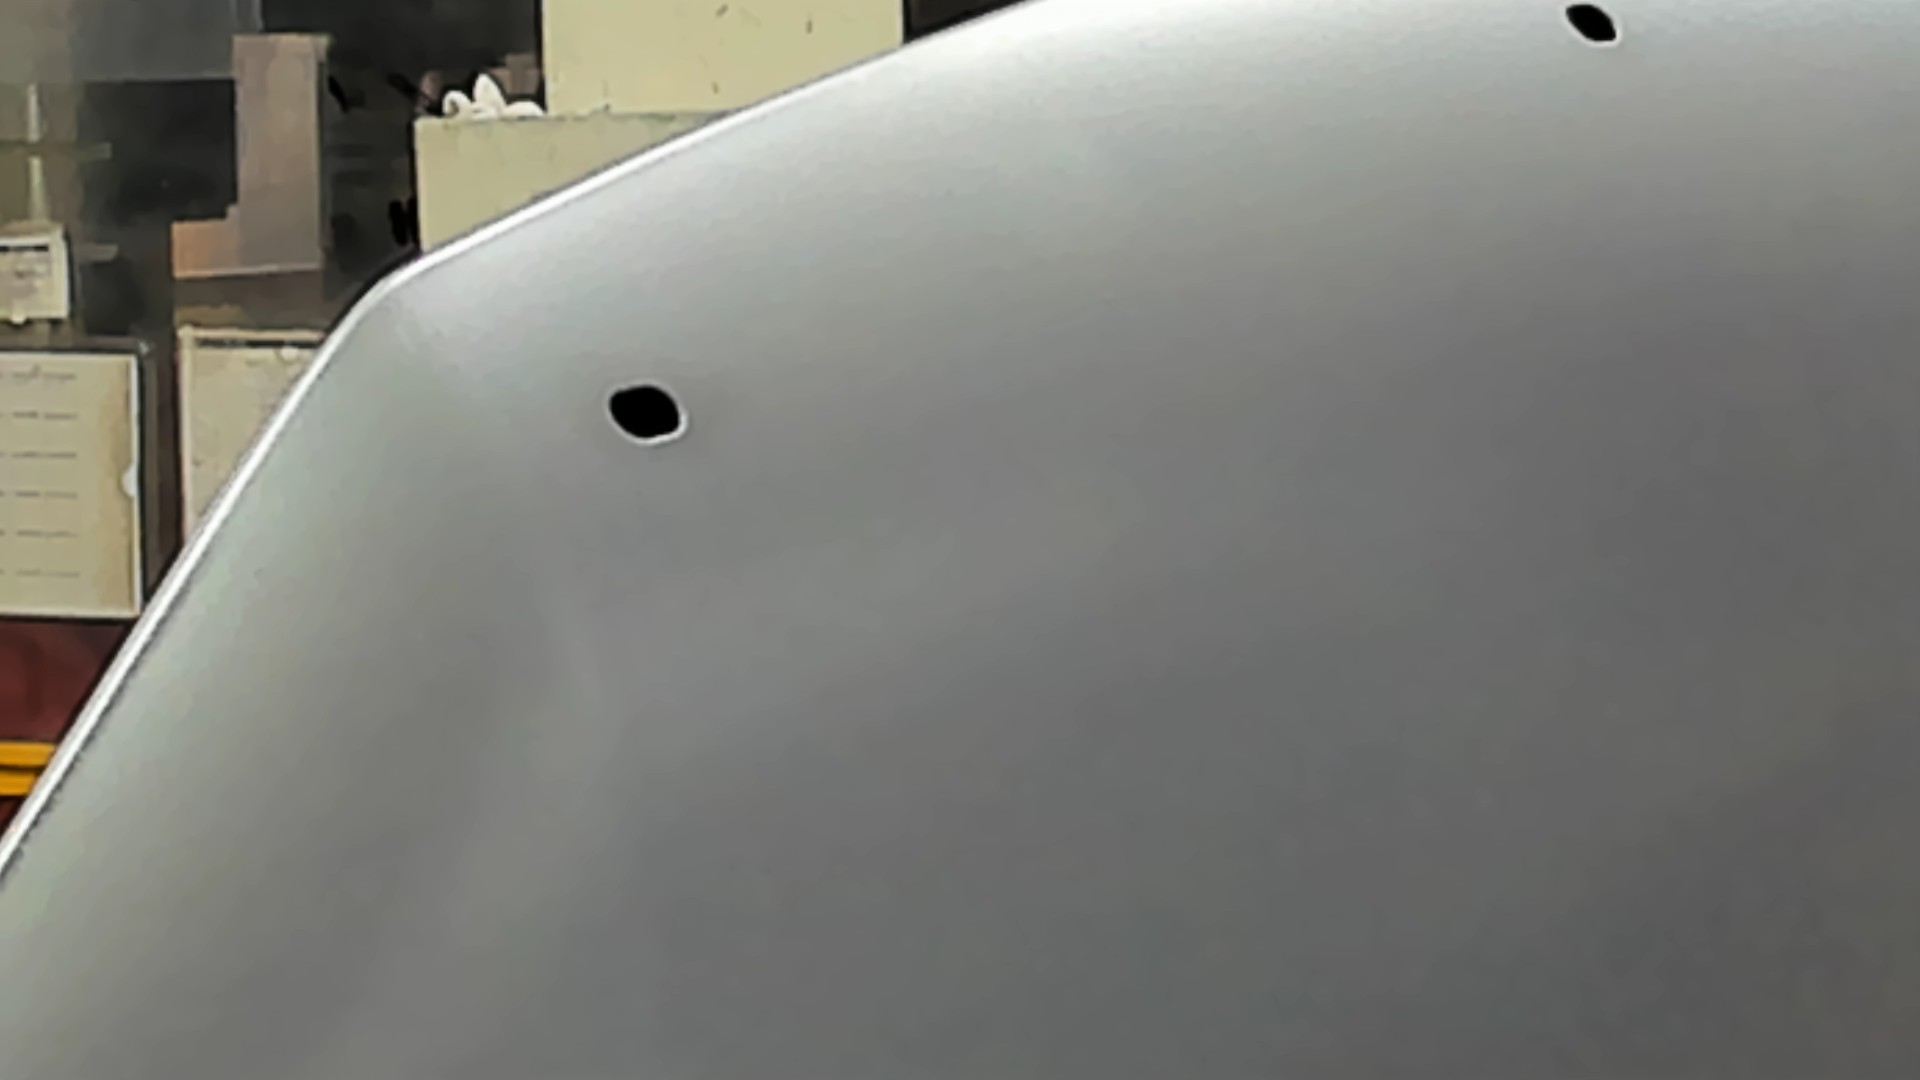amorfo: (600, 377, 696, 447), (1551, 1, 1633, 53)
capo: (815, 115, 1920, 1080)
